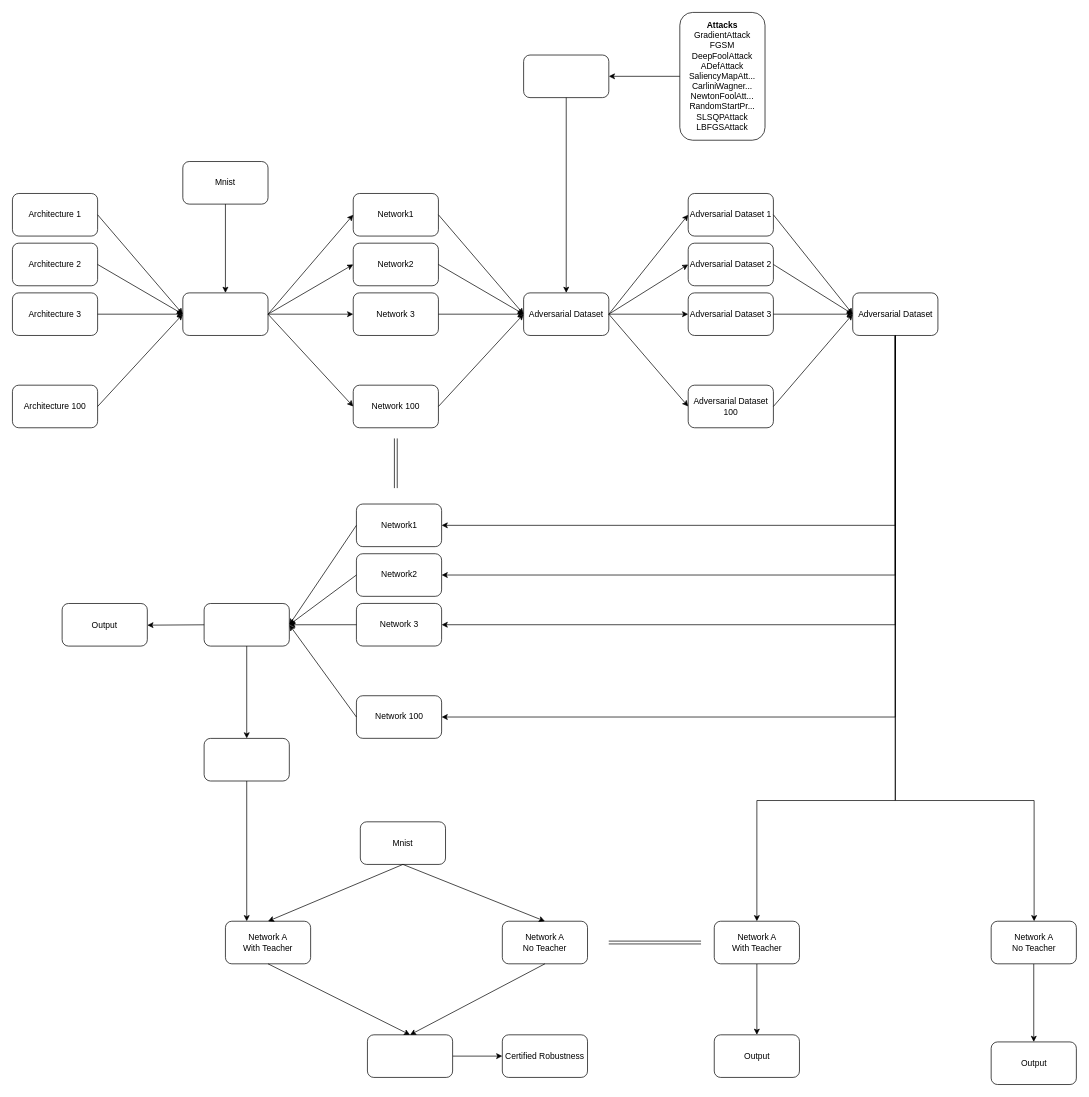
Image size: 1089x1097. Some labels were removed from this diagram. The centre of each missing label's shape, as x and y in pixels:
CNN-Cert: the point at 410,1055
Foolbox: the point at 566,76
Network Generator: the point at 225,313
Teacher Label Generator: the point at 246,759
Voter: the point at 246,624
